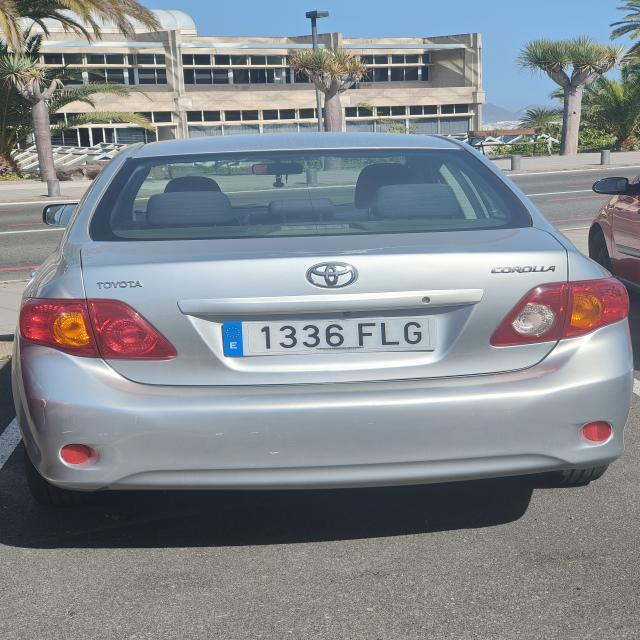License-Plate: (222, 316, 441, 358)
